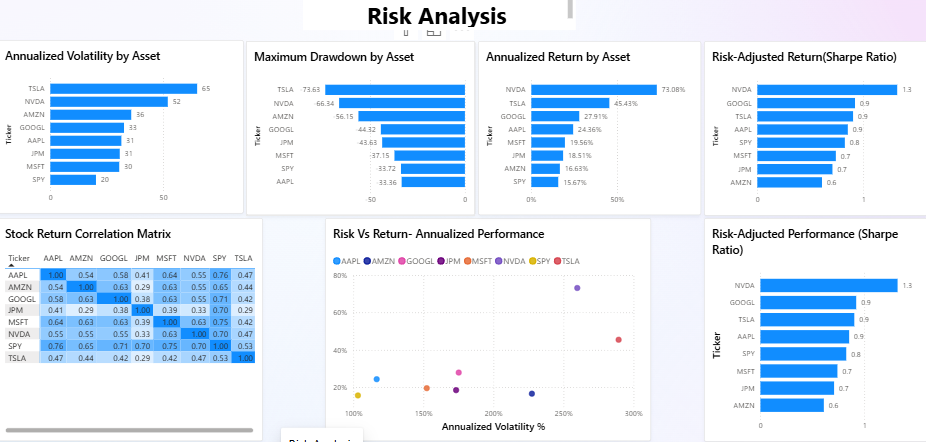

The page's visual inventory and layout, read from the dashboard file:
{"tool":"powerbi","page":{"name":"Risk Analysis","canvas":[1500,720],"ordinal":1},"visuals":[{"type":"clusteredBarChart","title":"Annualized Volatility by Asset","fields":{"Category":["stock_performance_summary.Ticker"],"Y":["stock_performance_summary.Volatility Card %"]},"box":[0,70.9,397.6,279.5],"z":0},{"type":"clusteredBarChart","title":"Maximum Drawdown by Asset","fields":{"Category":["stock_performance_summary.Ticker"],"Y":["stock_performance_summary.Drawdown Card"]},"box":[401.6,72.8,370.1,281.5],"z":1000},{"type":"clusteredBarChart","title":" Risk-Adjusted Return(Sharpe Ratio)","fields":{"Category":["stock_performance_summary.Ticker"],"Y":["stock_performance_summary.Sharpe Card"]},"box":[1140.3,72.6,359.7,282.3],"z":2000},{"type":"pivotTable","title":"Stock Return Correlation Matrix","fields":{"Rows":["stock_correlation_matrix.Ticker 1"],"Columns":["stock_correlation_matrix.Ticker 2"],"Values":["Sum(stock_correlation_matrix.Correlation)"]},"box":[0,358.1,429.1,360.2],"z":3000},{"type":"scatterChart","title":"Risk Vs Return- Annualized Performance","fields":{"Y":["stock_market_master.Annualized Return %"],"X":["stock_market_master.Annualized Volatility %"],"Series":["stock_market_master.Ticker"]},"box":[529,358.1,525.8,359.7],"z":4000},{"type":"clusteredBarChart","title":"Annualized Return by Asset","fields":{"Category":["stock_market_master.Ticker"],"Y":["stock_market_master.Annualized Return %"]},"box":[775.6,72.8,360.2,281.5],"z":5000},{"type":"clusteredBarChart","title":"Risk-Adjucted Performance (Sharpe Ratio)","fields":{"Category":["stock_market_master.Ticker"],"Y":["stock_performance_summary.Sharpe Card"]},"box":[1140.3,358.1,359.7,361.3],"z":7000},{"type":"textbox","box":[494.1,0,440.1,55.4],"z":8000}]}

Visuals, with their boxes in screenshot pixels (x1, y1, x2, y2), scaled from the page's 1500x720 canvas onto the 926x442 screenshot:
"Annualized Volatility by Asset" clusteredBarChart: {"x1": 0, "y1": 44, "x2": 245, "y2": 215}
"Maximum Drawdown by Asset" clusteredBarChart: {"x1": 248, "y1": 45, "x2": 476, "y2": 218}
" Risk-Adjusted Return(Sharpe Ratio)" clusteredBarChart: {"x1": 704, "y1": 45, "x2": 925, "y2": 218}
"Stock Return Correlation Matrix" pivotTable: {"x1": 0, "y1": 220, "x2": 265, "y2": 441}
"Risk Vs Return- Annualized Performance" scatterChart: {"x1": 327, "y1": 220, "x2": 651, "y2": 441}
"Annualized Return by Asset" clusteredBarChart: {"x1": 479, "y1": 45, "x2": 701, "y2": 218}
"Risk-Adjucted Performance (Sharpe Ratio)" clusteredBarChart: {"x1": 704, "y1": 220, "x2": 925, "y2": 441}
textbox: {"x1": 305, "y1": 0, "x2": 577, "y2": 34}
